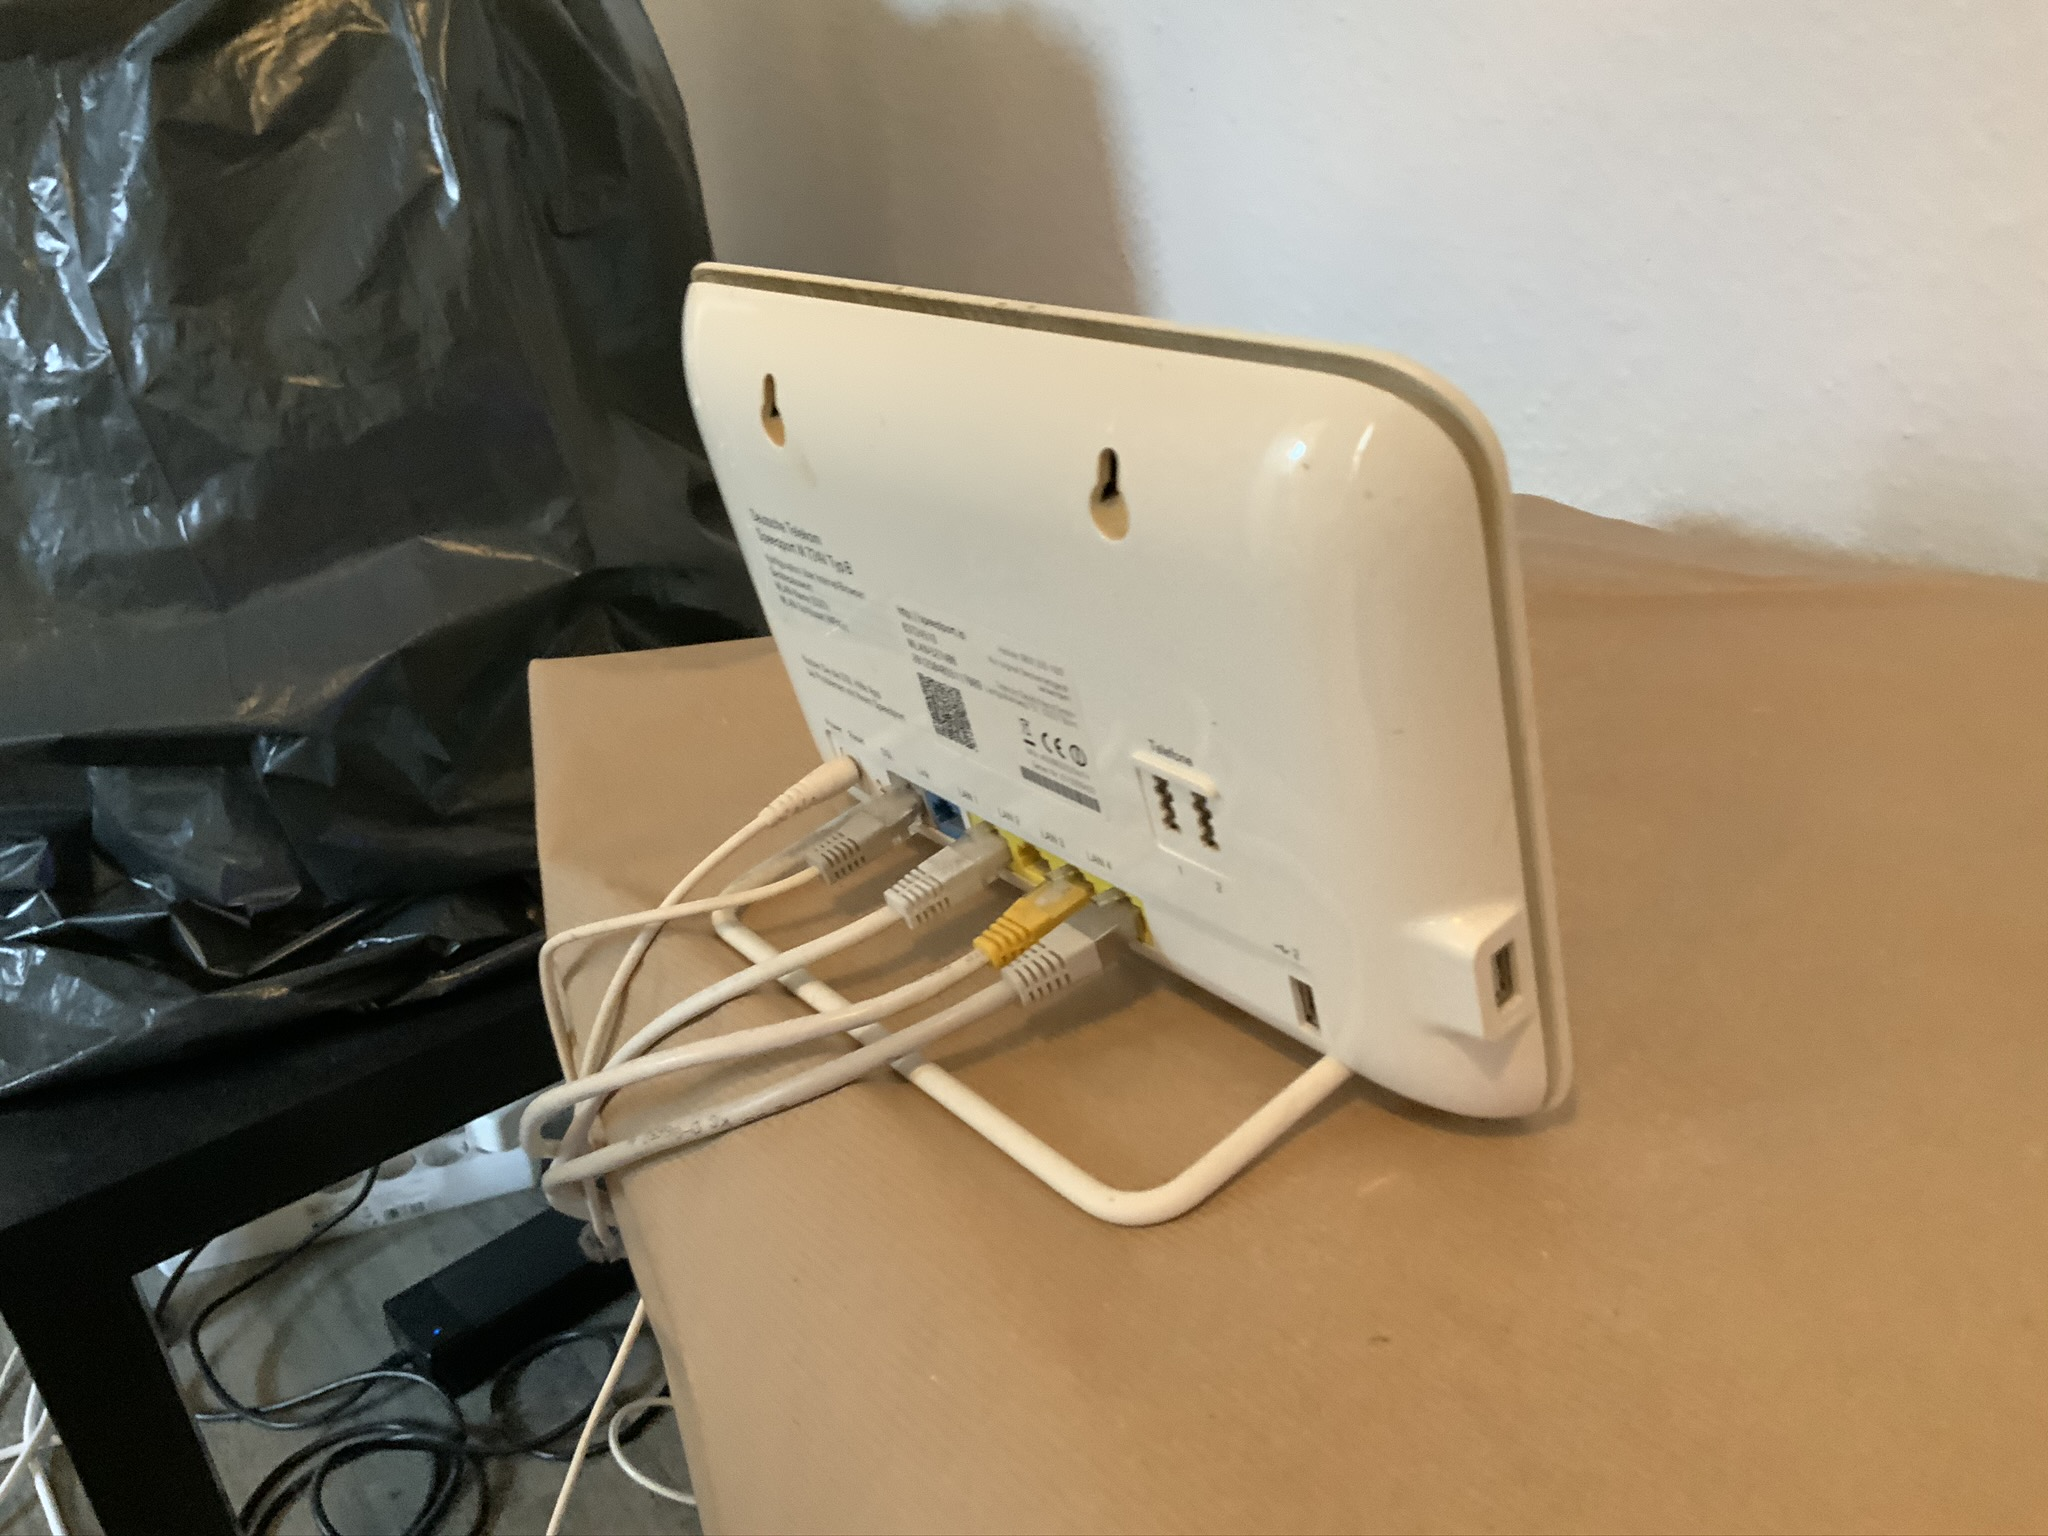router: (668, 253, 1592, 1141)
